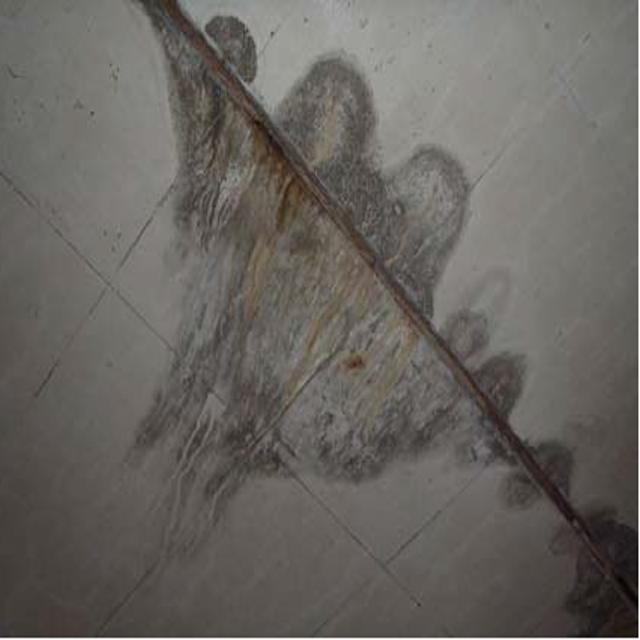leakage: (152, 34, 602, 564)
